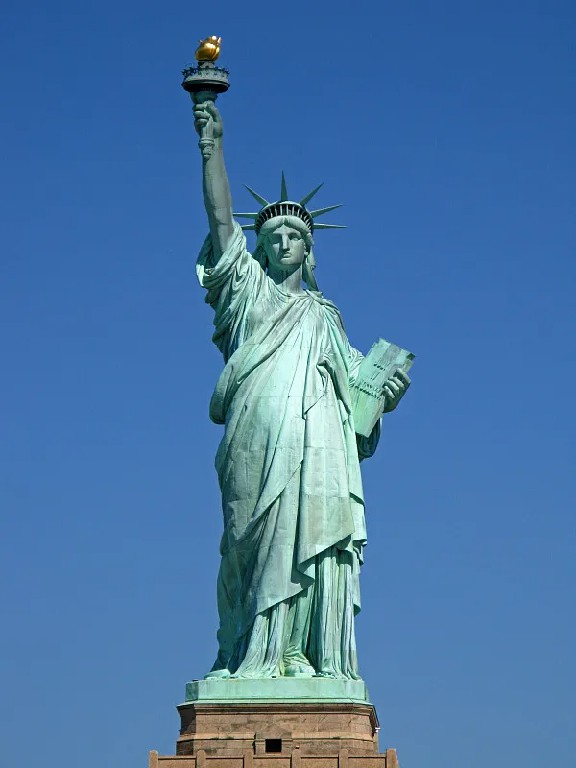SL: (149, 31, 415, 768)
